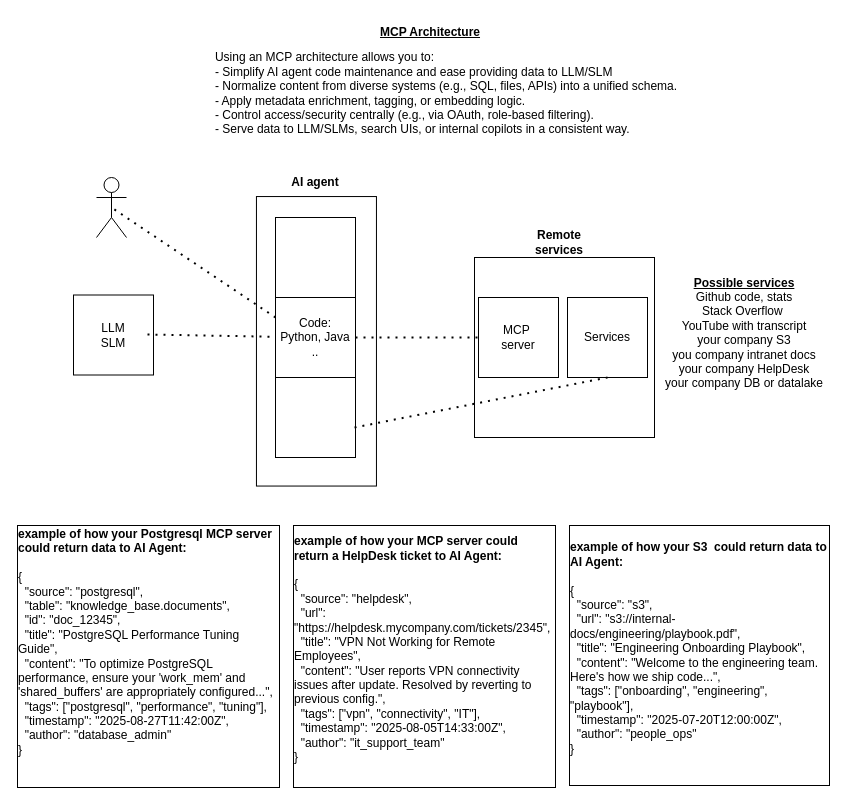
Image size: 847x805. Some labels were removed from this diagram. The box of each missing label's shape, as (x1, y1, x2, y2) in pixels:
MCP client: (274, 216, 356, 298)
Optional Local MCP server connects to local service: (274, 376, 356, 458)
User interaction: (96, 176, 126, 238)
